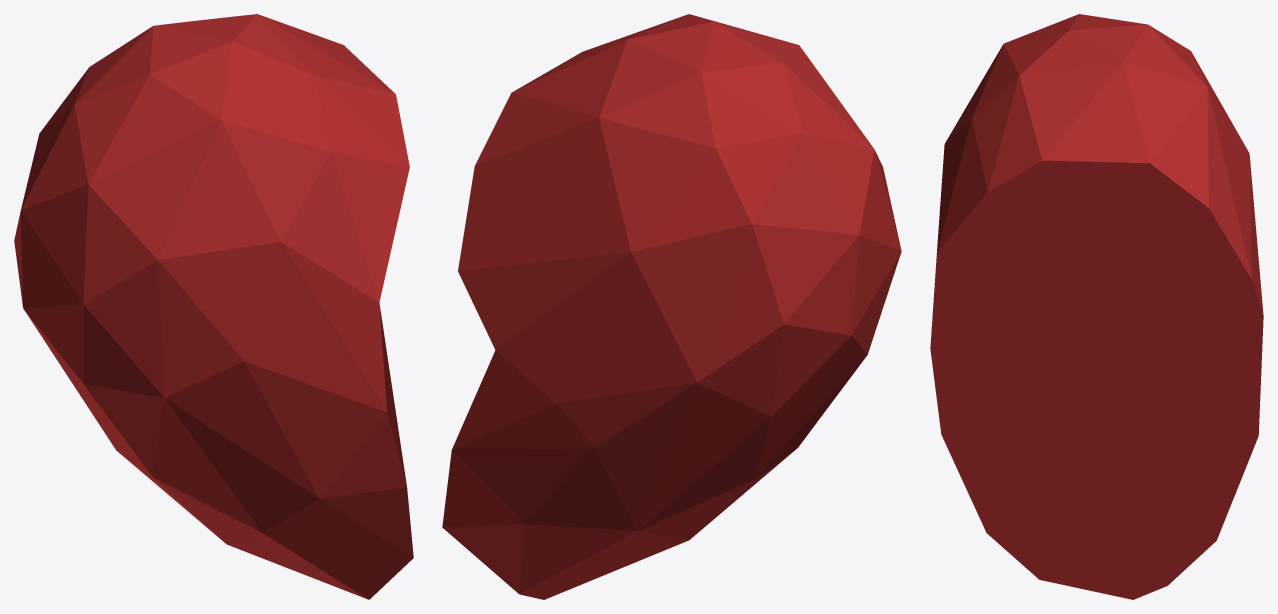
File: heartnew2.fbx
The picture shows the model from 3 angles, left to right: view 1: azimuth 30°, elevation 25°; view 2: azimuth 150°, elevation 25°; view 3: azimuth 270°, elevation 25°; orthographic projection. The views are drawn at different scales.
Parts seen in each view (by area): view 1: polySurface2; view 2: polySurface2; view 3: polySurface2.
Boxes of the visible parts, bbox=[...] form: polySurface2: bbox=[14, 14, 413, 599]; polySurface2: bbox=[442, 14, 901, 599]; polySurface2: bbox=[930, 14, 1263, 599].
Bounding box in the file's own units: 4.39 × 6.72 × 3.96.
